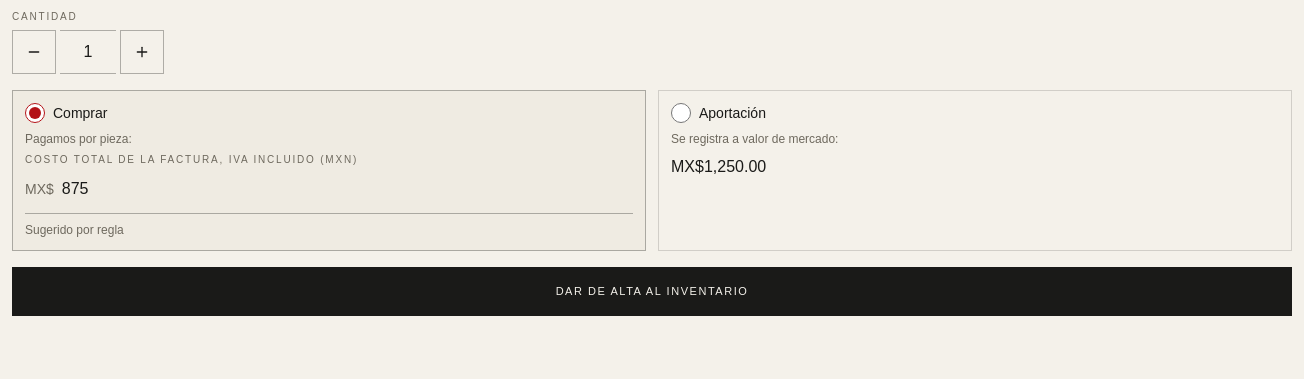
Test: SU-UX-9 · Lote: la nota se AÑADE detrás del texto de hoy › QuickAdd: el toast trae `successOne` + `batchPublishNote`; el resultado del panel no cambia
This screenshot has width=1304, height=379.
Step 1. Click the button "Dar de alta al inventario" → [652, 291], box [12,267,1292,316]
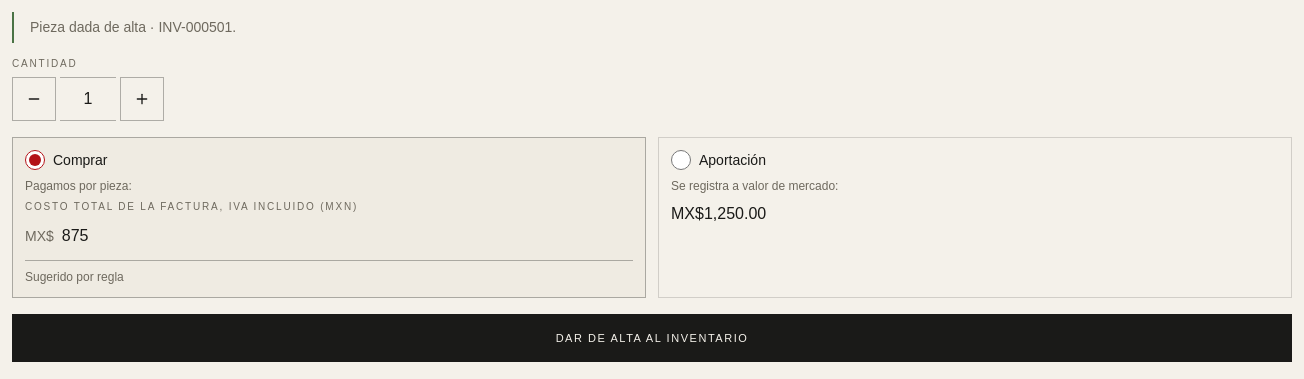
expect the text "Pieza dada de alta · INV-000501." is shown: met, box [30,19,236,35]
